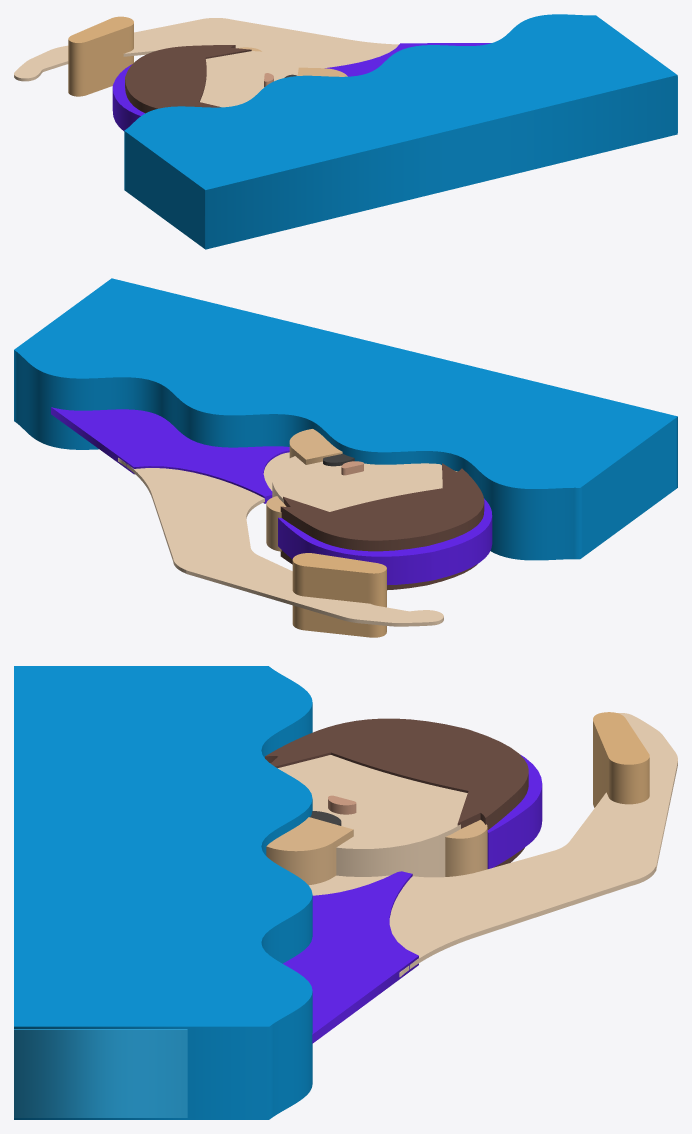
Rendered from emoji_u1f3ca_1f3fb_200d_2640.glb.
The picture shows the model from 3 angles, top to bottom: view 1: azimuth 30°, elevation 25°; view 2: azimuth 150°, elevation 25°; view 3: azimuth 270°, elevation 25°; orthographic projection. The views are drawn at different scales.
Visible parts, largest first — view 1: emoji_u1f3ca_1f3fb_200d_2640; view 2: emoji_u1f3ca_1f3fb_200d_2640; view 3: emoji_u1f3ca_1f3fb_200d_2640.
Boxes of the visible parts, left/top/right/bottom form: emoji_u1f3ca_1f3fb_200d_2640: left=14, top=14, right=677, bottom=249; emoji_u1f3ca_1f3fb_200d_2640: left=14, top=278, right=677, bottom=637; emoji_u1f3ca_1f3fb_200d_2640: left=14, top=666, right=677, bottom=1119.
Size of the model in its own units: 0.0333 by 0.004 by 0.0258.
